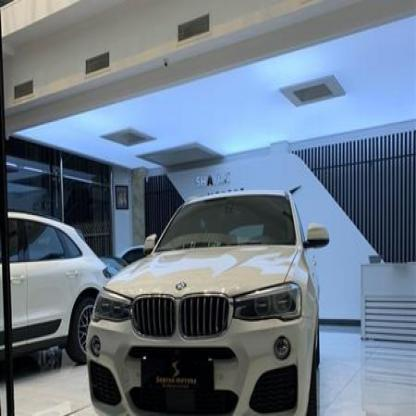Car: (85, 198, 329, 416), (0, 207, 111, 409)
